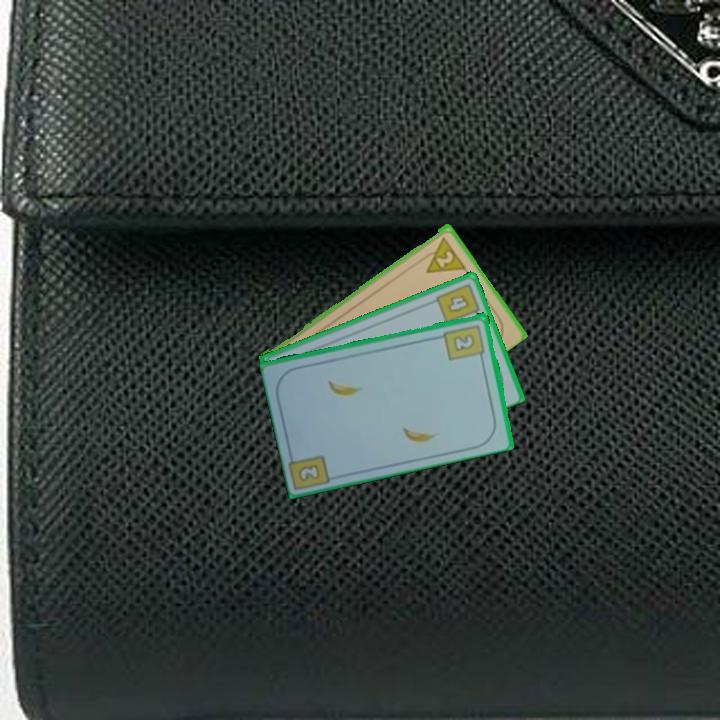2b: (441, 321, 488, 363), (295, 460, 323, 484)
2p: (416, 233, 468, 276)
4b: (432, 280, 483, 326)
